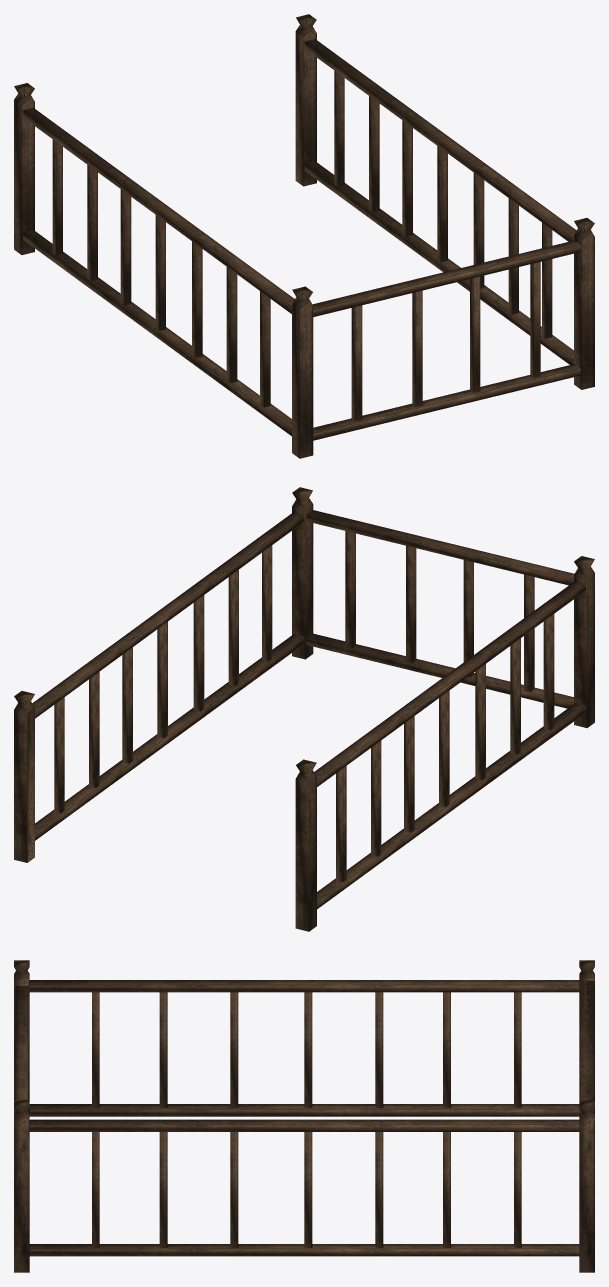
The model's file is SH3D_Sparta_StairRail.obj.
3 renders of one model, top to bottom at view 1: azimuth 30°, elevation 25°; view 2: azimuth 150°, elevation 25°; view 3: azimuth 270°, elevation 25°, orthographic.
Parts seen in each view (by area): view 1: SH3D_Sparta_Stairs; view 2: SH3D_Sparta_Stairs; view 3: SH3D_Sparta_Stairs.
Boxes of the visible parts, x1,y1,x2,y2 form: SH3D_Sparta_Stairs: (14,14,594,458); SH3D_Sparta_Stairs: (14,487,594,931); SH3D_Sparta_Stairs: (14,960,594,1272).
Bounding box in the file's own units: 2.2 × 1.16 × 3.69.
